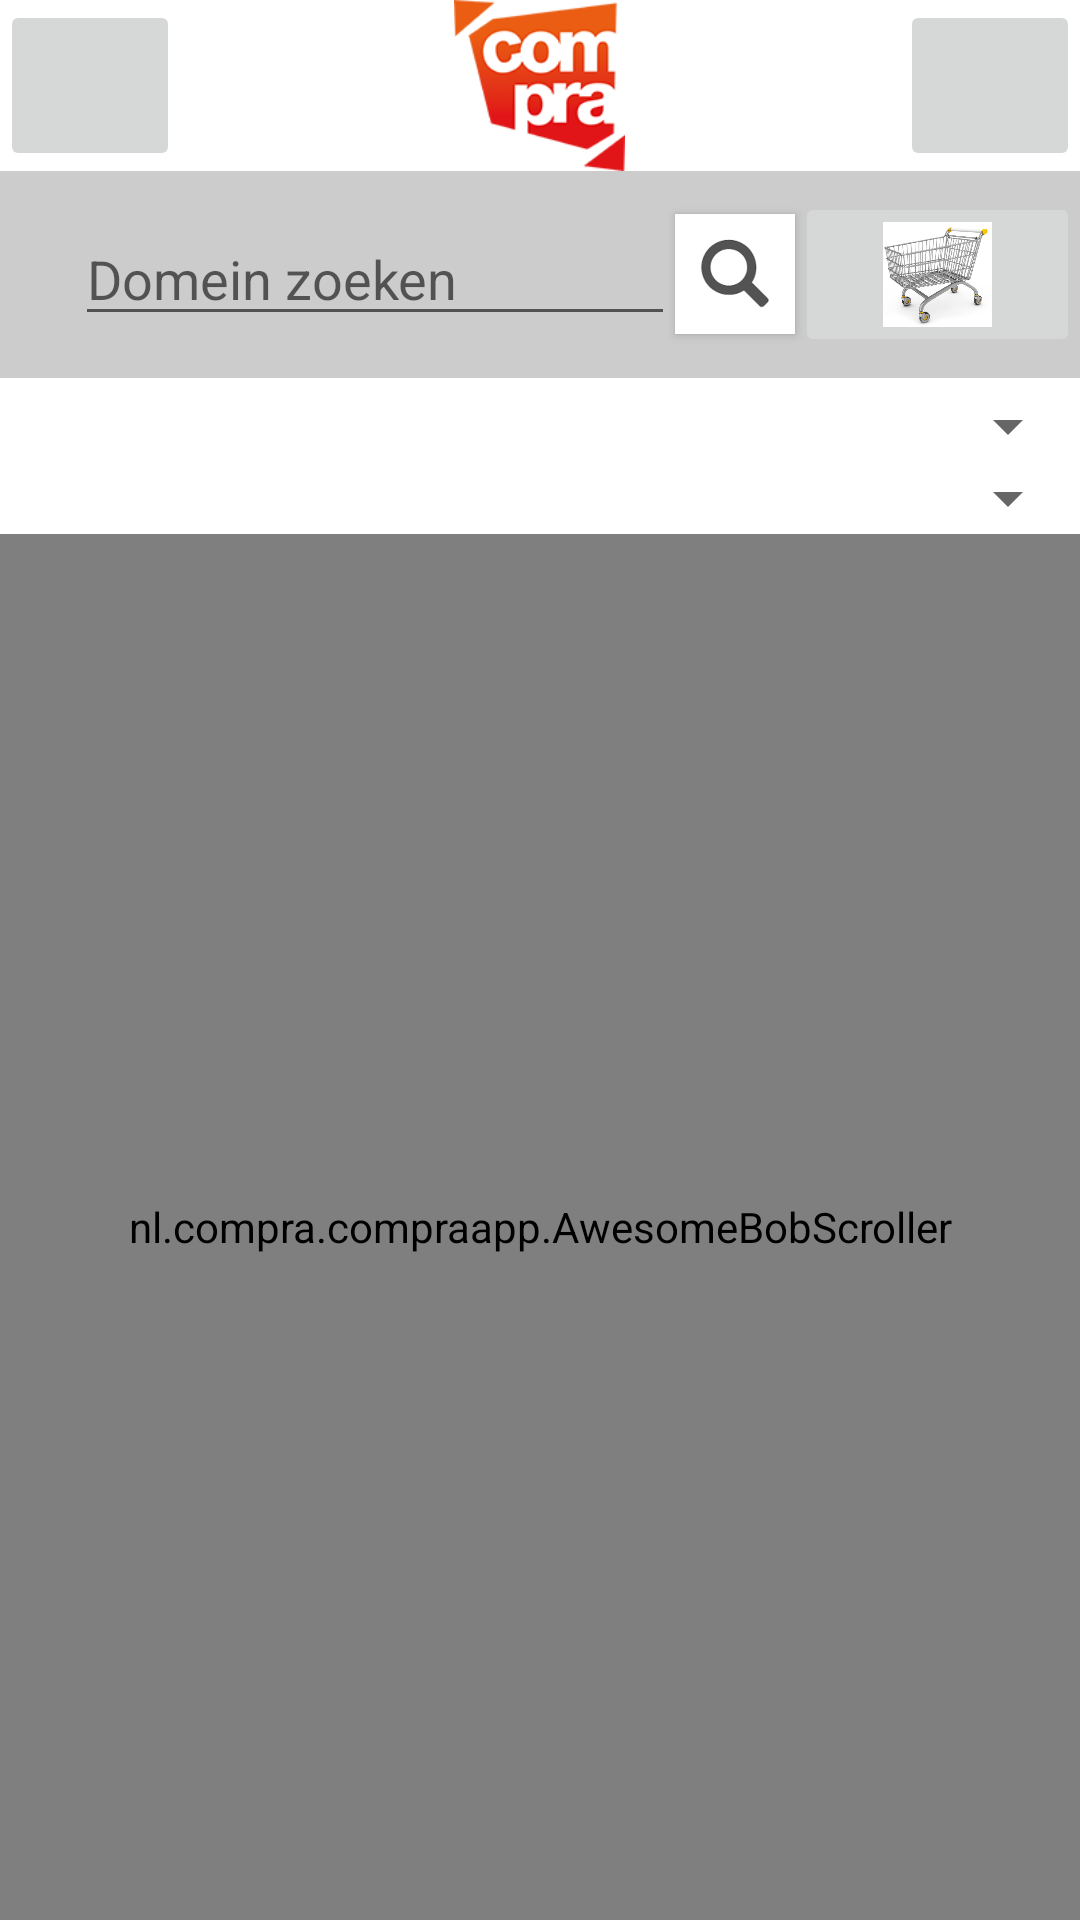

Named icons in this screenshot (1080px×1920px) and their bounding boxes, (x1, y1, x2, y2):
search: (675, 214, 795, 334)
winkelwagen: (883, 222, 992, 327)
